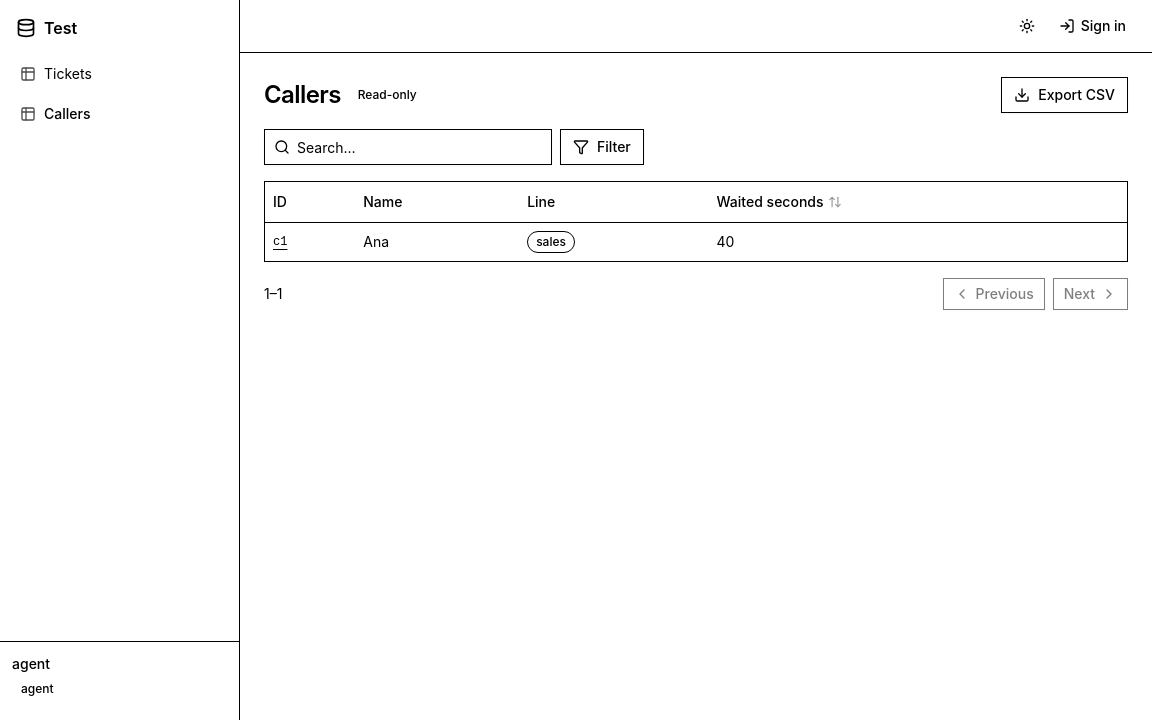
the list view › lists a read-only resource with no edit controls, and offers only the filters and sorts it takes
The image size is (1152, 720).
expect the text "Ana" is shown: met, box x1=355 y1=222 x2=519 y2=260
expect the button "Waited seconds" is shown: met, box x1=717 y1=192 x2=842 y2=212
Click the button "Filter" at (602, 147), box x1=560 y1=129 x2=644 y2=165
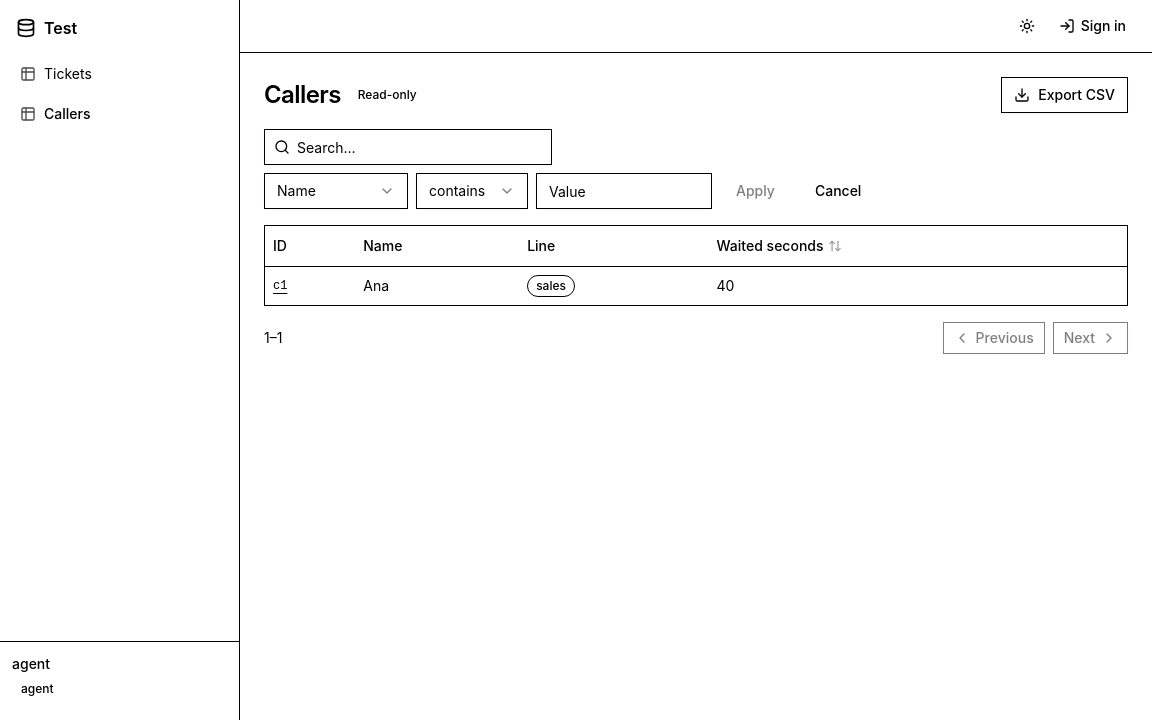
expect the dropdown named "Field" reads "Name": met, box x1=264 y1=173 x2=408 y2=209
expect the dropdown named "Operator" reads "contains": met, box x1=416 y1=173 x2=528 y2=209
